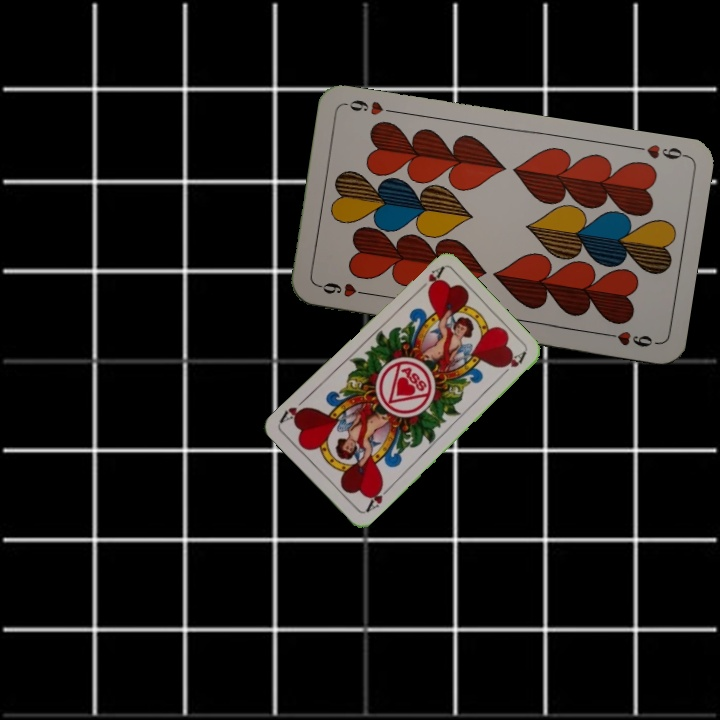H9: (315, 278, 374, 300), (630, 140, 688, 162)
HA: (412, 263, 446, 296), (362, 480, 394, 515)
